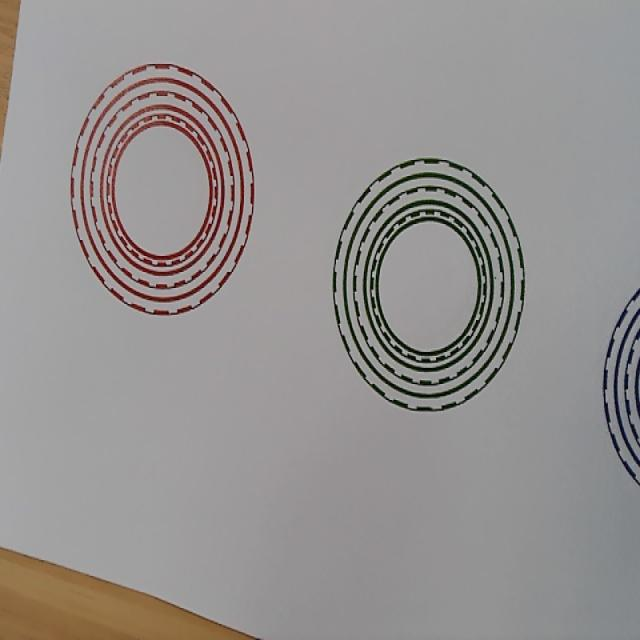g: (332, 157, 525, 414)
red-green-blue: (70, 62, 255, 316)
